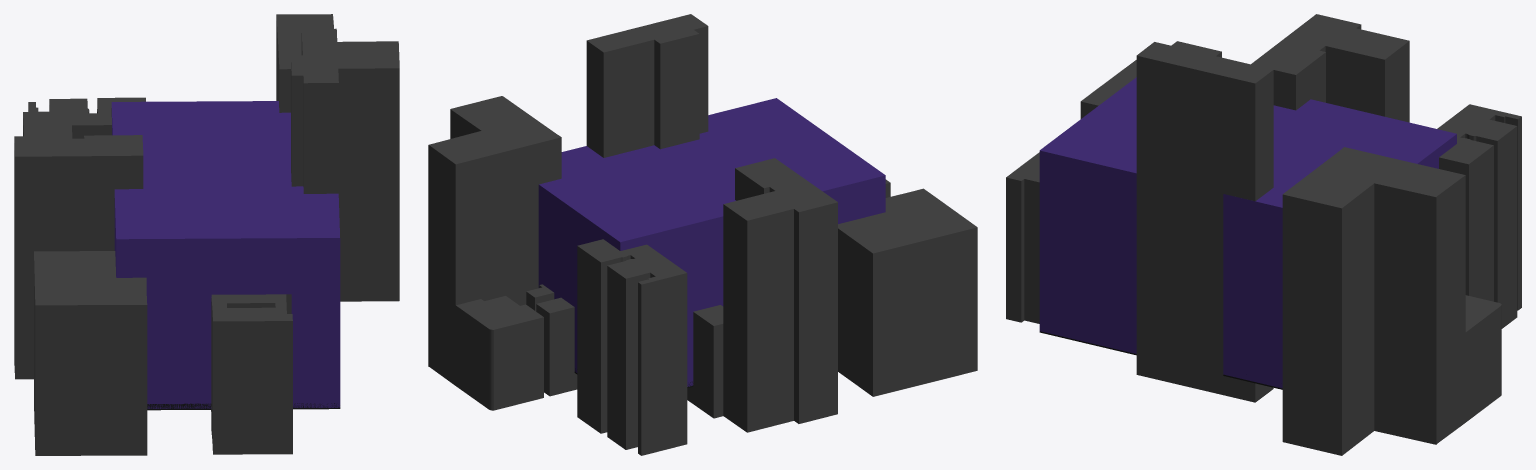
File: carnegie-model.gltf
3 renders of one model, left to right at view 1: azimuth 30°, elevation 25°; view 2: azimuth 150°, elevation 25°; view 3: azimuth 270°, elevation 25°, orthographic. The views are drawn at different scales.
Parts seen in each view (by area): view 1: Cube, element.018, 888 Seventh Avenue, element.013, Carnegie Hall Tower, element.012, Cube.003; view 2: element.018, Cube, 888 Seventh Avenue, Carnegie Hall Tower, Alwyn Court, element.001; view 3: element.018, Cube, Carnegie Hall Tower, 888 Seventh Avenue, element.012, Alwyn Court.
Boxes of the visible parts, box(x1,y1,x2,y2) form: Cube: box(111, 101, 340, 408); element.018: box(28, 14, 399, 455); 888 Seventh Avenue: box(14, 111, 143, 379); element.013: box(212, 307, 275, 454); Carnegie Hall Tower: box(291, 28, 338, 197); element.012: box(211, 294, 292, 454); Cube.003: box(147, 403, 340, 410); element.018: box(428, 96, 977, 455); Cube: box(538, 98, 885, 386); 888 Seventh Avenue: box(723, 158, 837, 432); Carnegie Hall Tower: box(586, 14, 708, 157); Alwyn Court: box(455, 296, 543, 410); element.001: box(526, 284, 577, 396); element.018: box(1080, 60, 1521, 455); Cube: box(1039, 77, 1456, 388); Carnegie Hall Tower: box(1136, 41, 1273, 402); 888 Seventh Avenue: box(1251, 14, 1409, 122); element.012: box(1006, 171, 1039, 323); Alwyn Court: box(1465, 295, 1501, 422).
Bounding box in the file's own units: 252 × 157 × 230.
